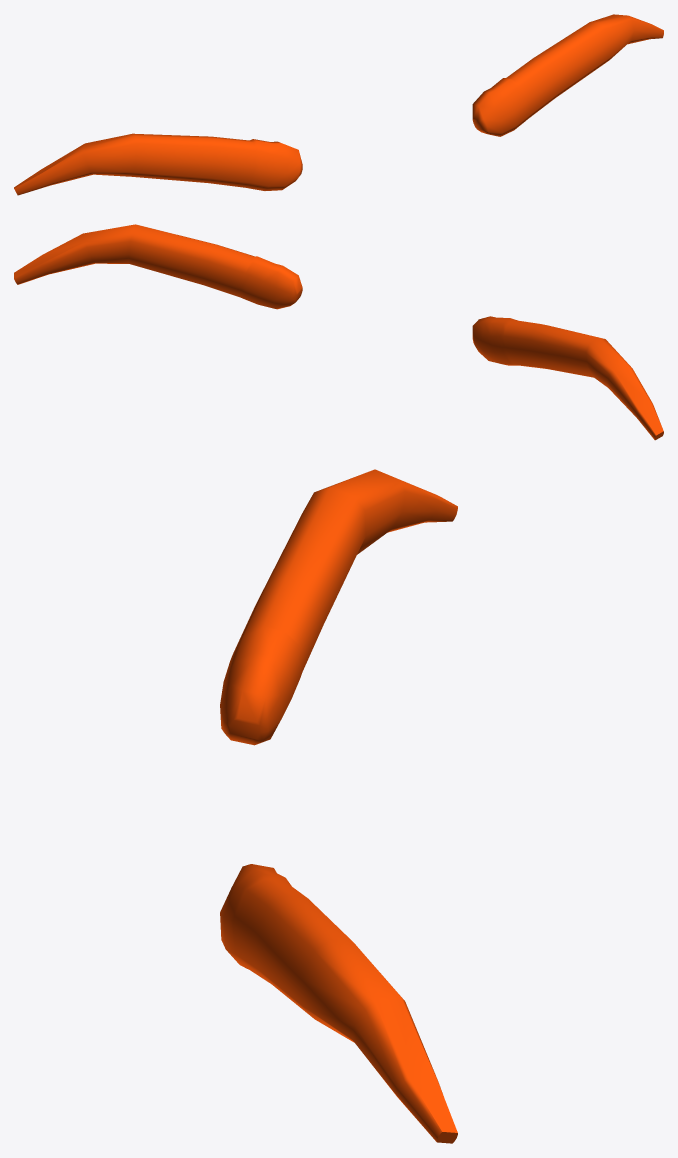
Rendered from Eyebrows_15_06.fbx.
3 views of the same model, one above another, from view 1: azimuth 30°, elevation 25°; view 2: azimuth 150°, elevation 25°; view 3: azimuth 270°, elevation 25° (orthographic). The views are drawn at different scales.
Parts seen in each view (by area): view 1: Eyebrows_15_06; view 2: Eyebrows_15_06; view 3: Eyebrows_15_06.
Boxes of the visible parts, x1,y1,x2,y2 form: Eyebrows_15_06: [14, 14, 663, 195]; Eyebrows_15_06: [14, 224, 663, 440]; Eyebrows_15_06: [220, 469, 457, 1143].
Size of the model in its own units: 19.15 by 1.93 by 3.04.
